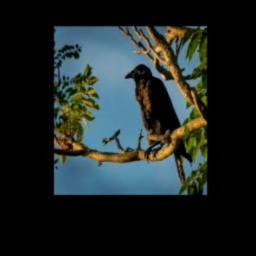Crow: (125, 64, 192, 184)
